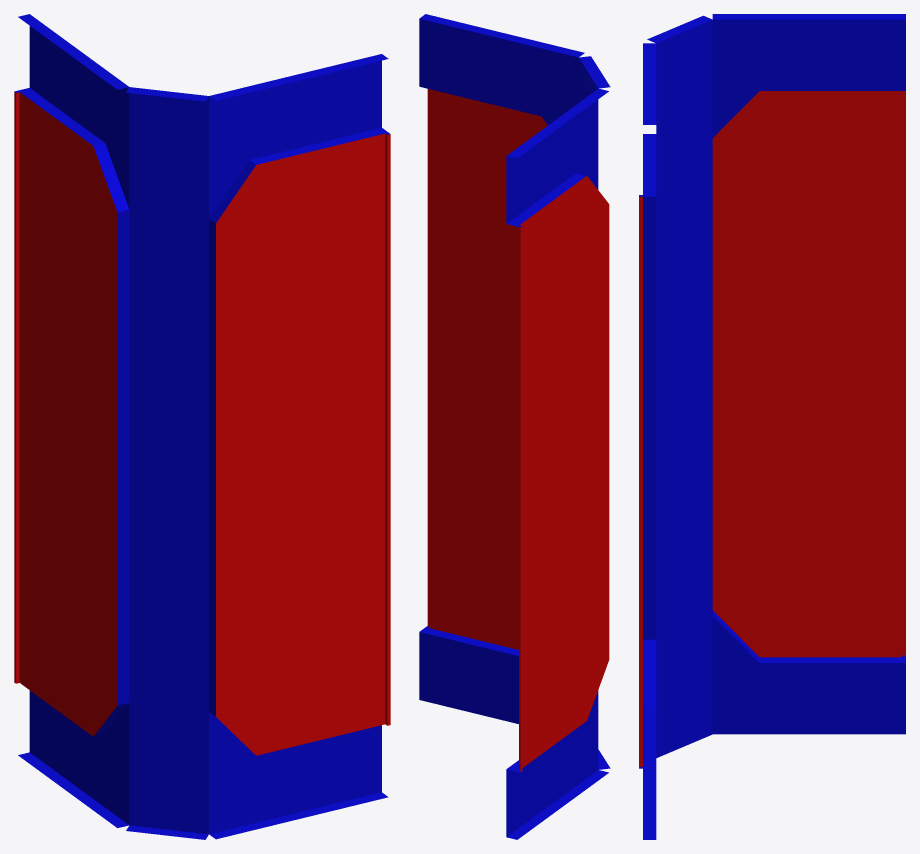
Rendered from block4.fbx.
The picture shows the model from 3 angles, left to right: view 1: azimuth 30°, elevation 25°; view 2: azimuth 150°, elevation 25°; view 3: azimuth 270°, elevation 25°; orthographic projection. The views are drawn at different scales.
Visible parts, largest first — view 1: muro_block4; view 2: muro_block4; view 3: muro_block4.
Boxes of the visible parts, x1,y1,x2,y2 form: muro_block4: [14, 14, 390, 839]; muro_block4: [419, 14, 610, 839]; muro_block4: [639, 14, 905, 839].
Bounding box in the file's own units: 102 × 300 × 102.
